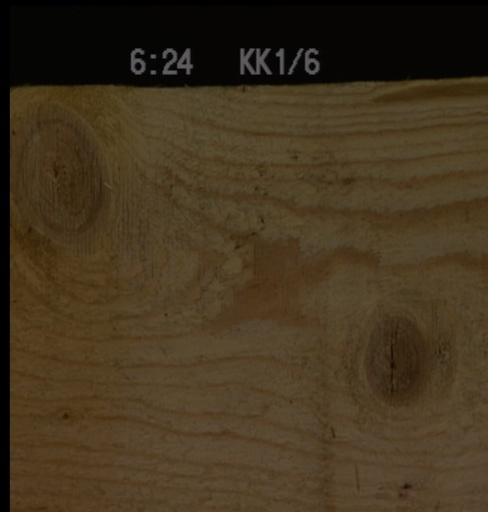small_knot: (56, 406, 72, 423)
sound_knot: (9, 83, 134, 255), (356, 306, 433, 412)
